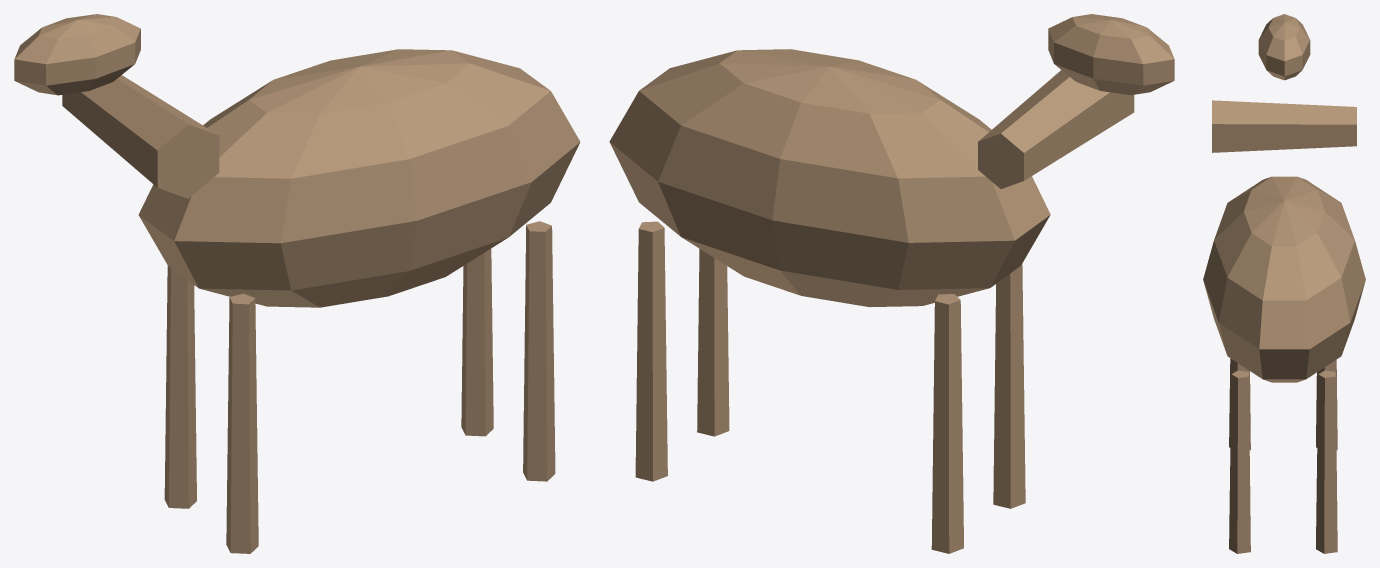
The model's file is deer.glb.
The picture shows the model from 3 angles, left to right: view 1: azimuth 30°, elevation 25°; view 2: azimuth 150°, elevation 25°; view 3: azimuth 270°, elevation 25°; orthographic projection. The views are drawn at different scales.
Parts seen in each view (by area): view 1: deer; view 2: deer; view 3: deer.
Part boxes in pixels (x1=…): deer: x1=14, y1=14, x2=580, y2=553; deer: x1=609, y1=14, x2=1174, y2=553; deer: x1=1203, y1=14, x2=1365, y2=553.
Bounding box in the file's own units: 1.85 × 1.73 × 0.675.
